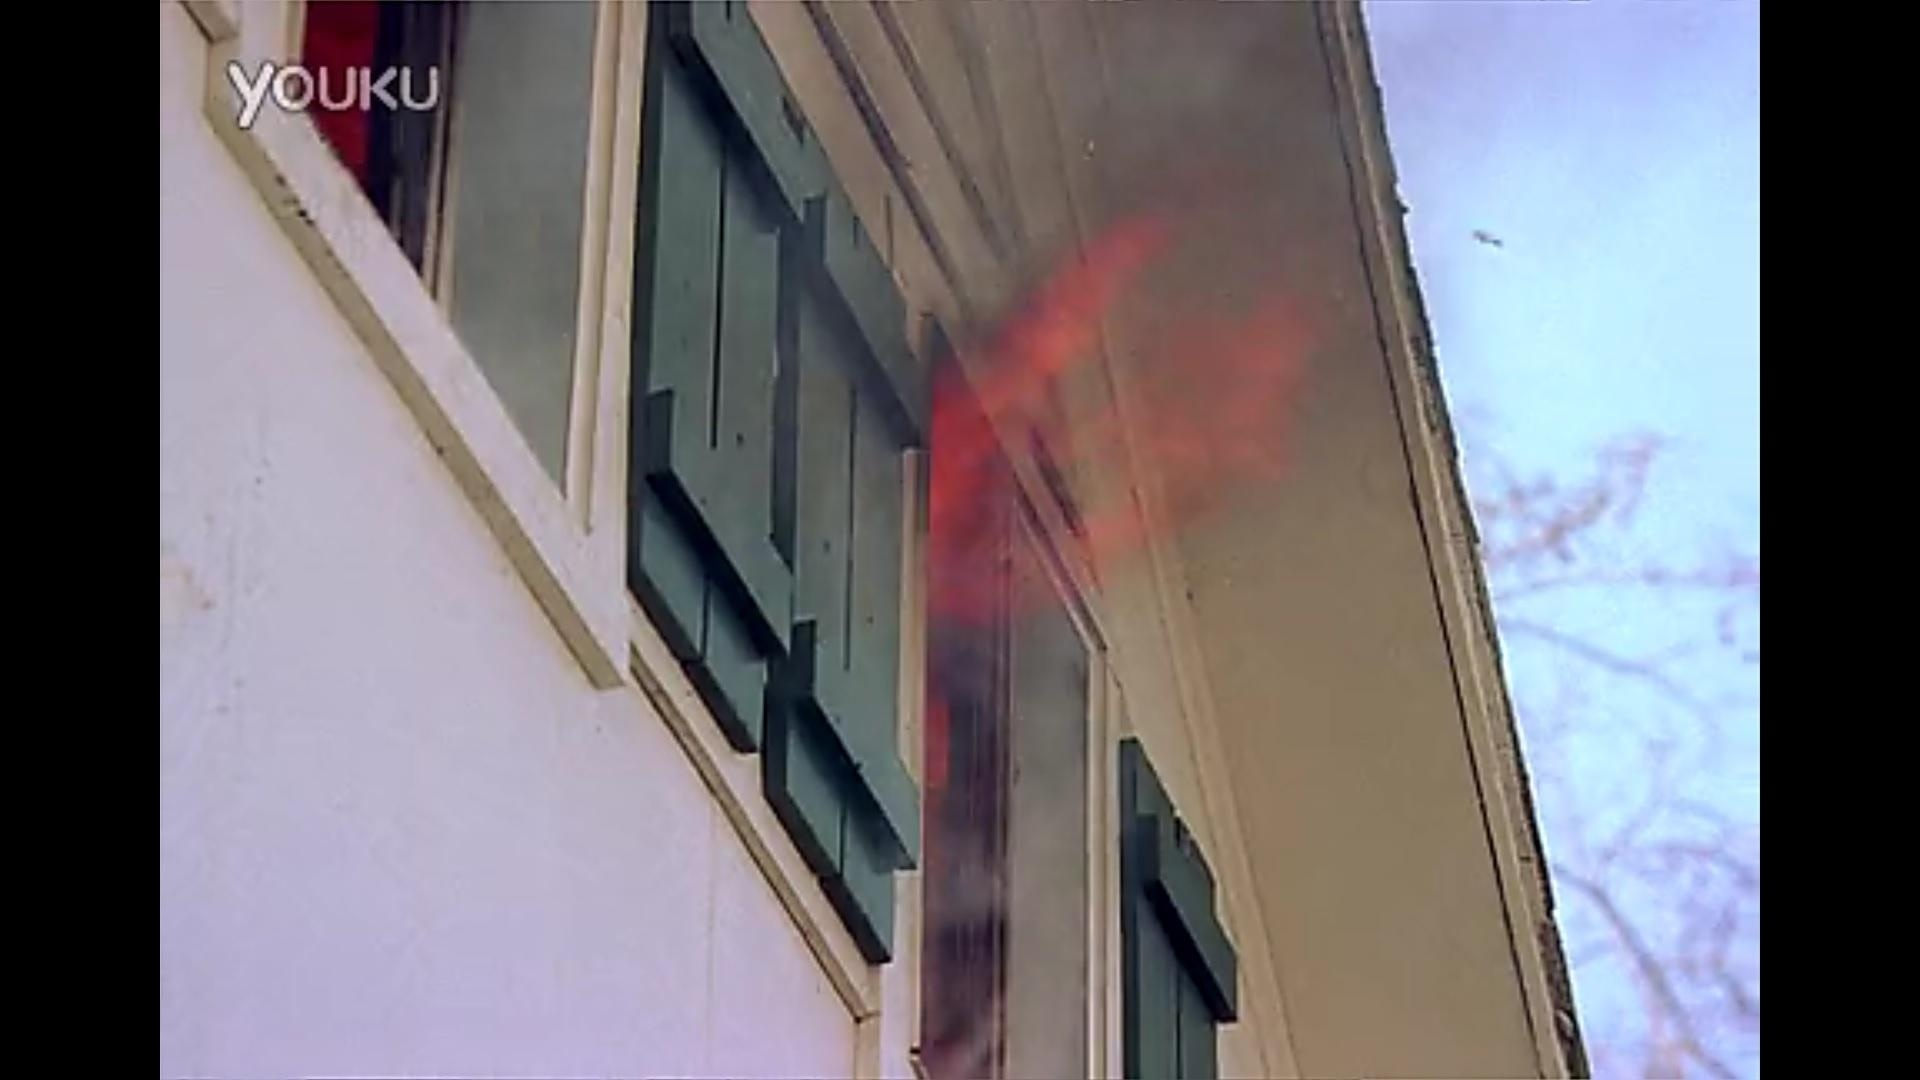fire: (916, 232, 1320, 628)
